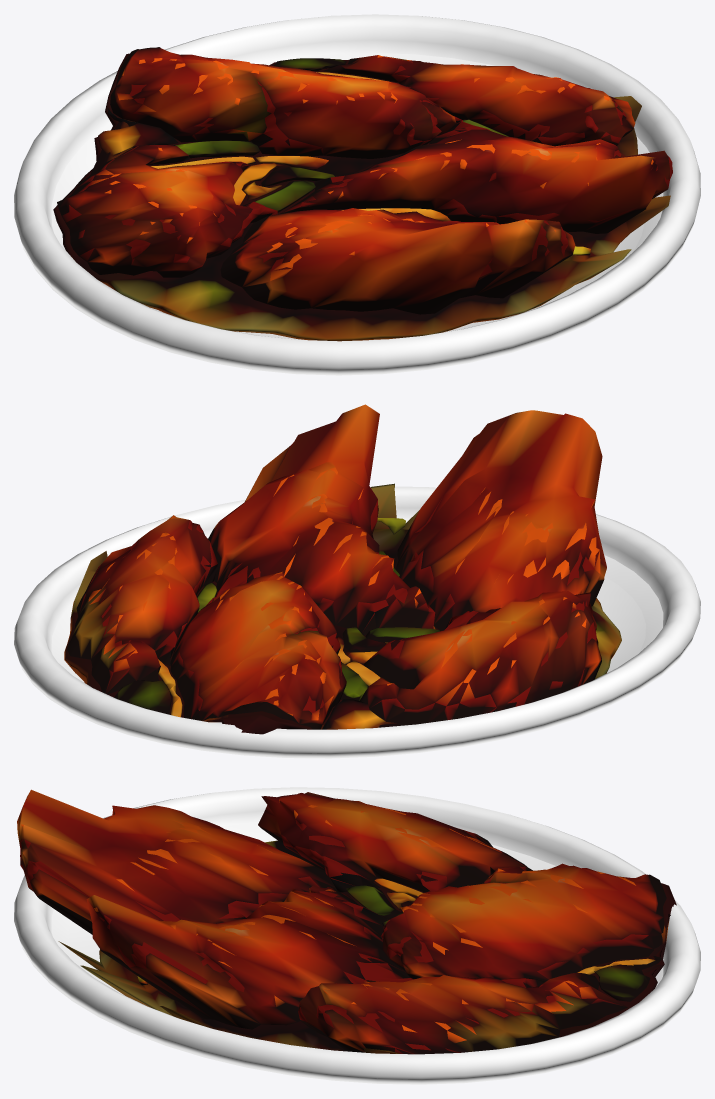
3 views of the same model, one above another, from view 1: azimuth 30°, elevation 25°; view 2: azimuth 150°, elevation 25°; view 3: azimuth 270°, elevation 25° (orthographic). The views are drawn at different scales.
Parts seen in each view (by area): view 1: SM_D08; view 2: SM_D08; view 3: SM_D08.
Boxes of the visible parts, x1,y1,x2,y2 form: SM_D08: (14, 14, 700, 375); SM_D08: (14, 404, 700, 758); SM_D08: (14, 787, 700, 1084).
Size of the model in its own units: 0.1904 by 0.0564 by 0.1971.
